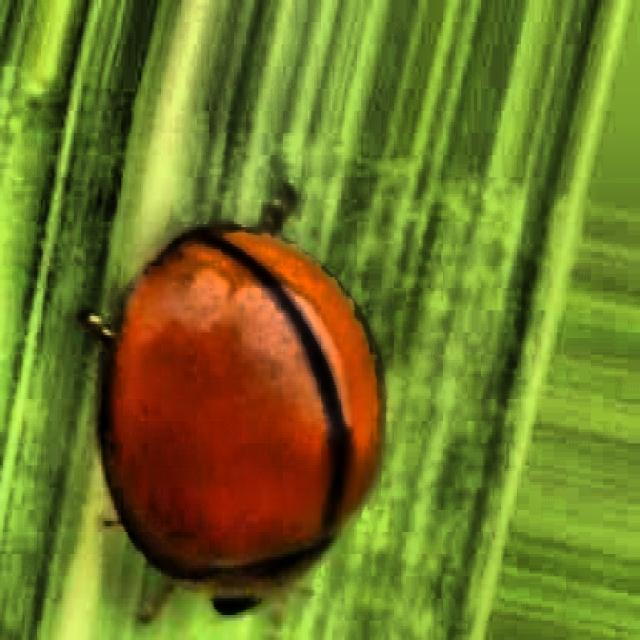Ladybug: (89, 185, 393, 633)
